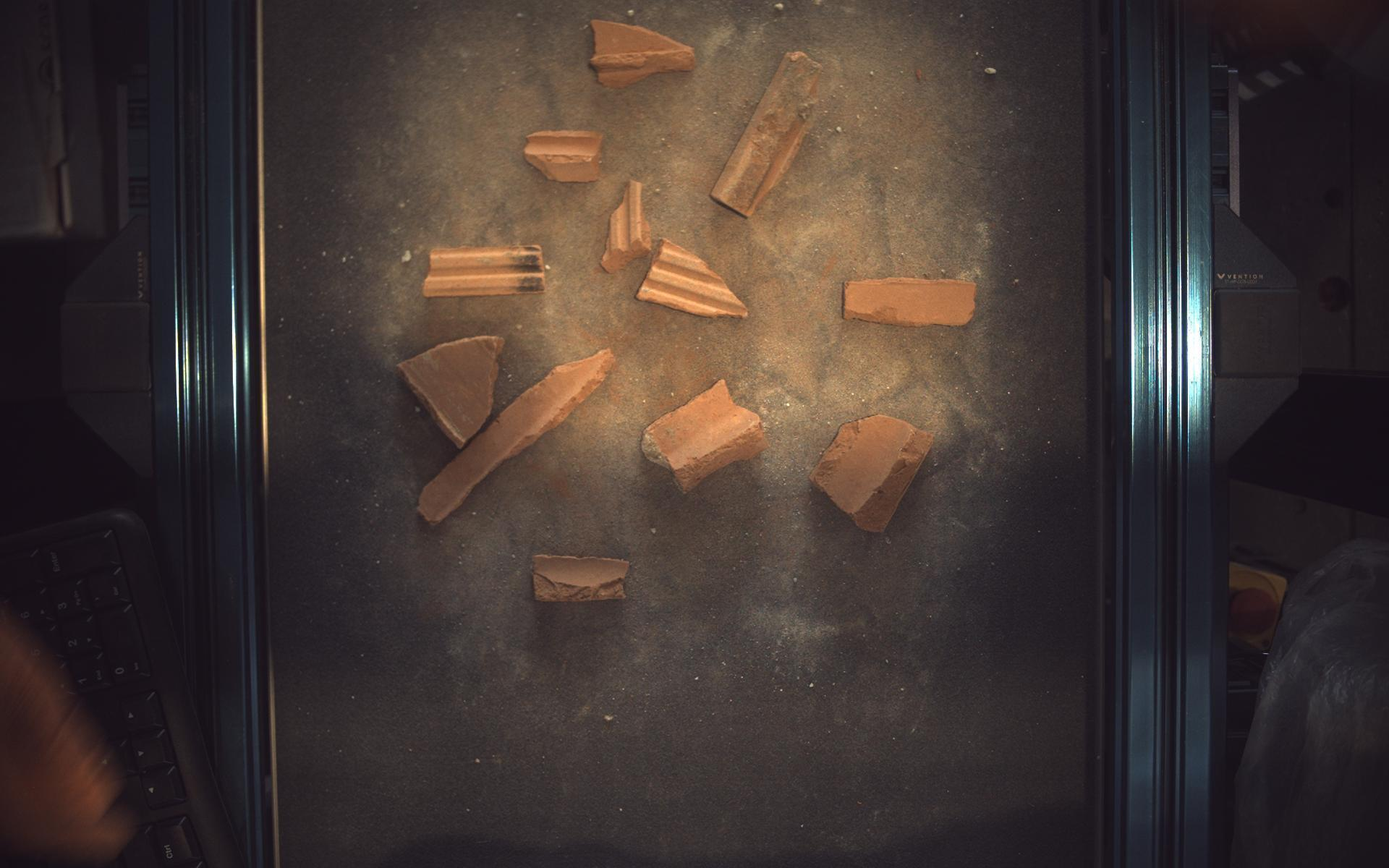brick: (418, 349, 616, 524), (712, 50, 823, 216), (642, 380, 770, 493), (812, 415, 935, 532), (397, 336, 504, 448), (637, 238, 749, 317), (591, 18, 697, 87), (422, 244, 545, 297), (846, 277, 978, 326), (602, 179, 653, 272), (533, 555, 630, 603), (524, 129, 603, 182)
